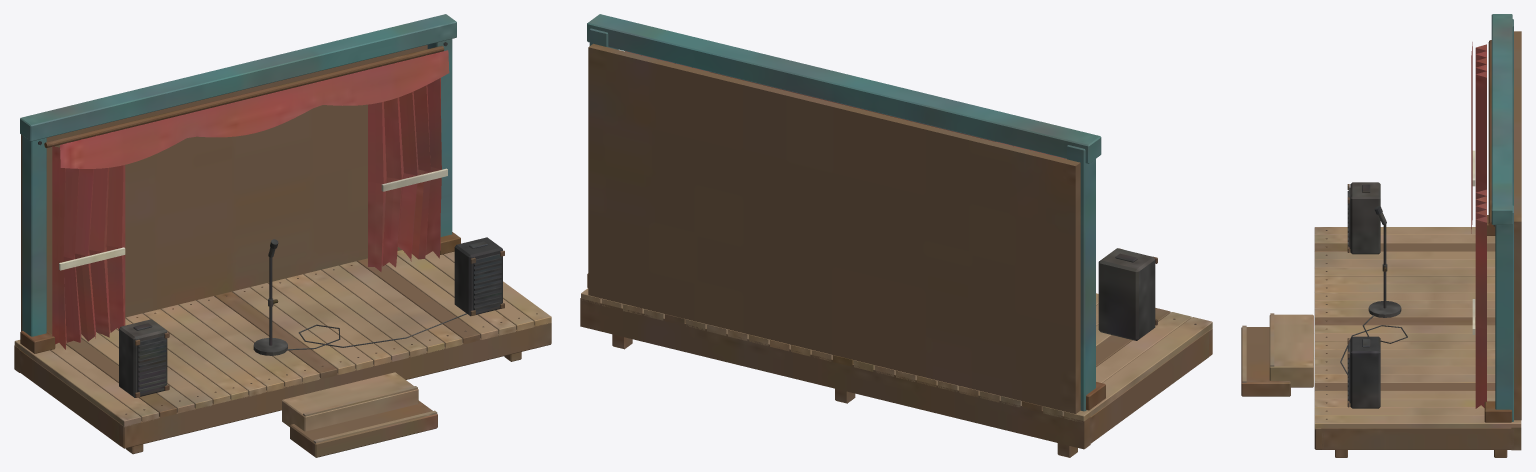
The model's file is Q16_community_hall_stage.glb.
The picture shows the model from 3 angles, left to right: view 1: azimuth 30°, elevation 25°; view 2: azimuth 150°, elevation 25°; view 3: azimuth 270°, elevation 25°; orthographic projection. The views are drawn at different scales.
Visible parts, largest first — view 1: Square timber support; view 2: Square timber support; view 3: Square timber support.
Boxes of the visible parts, x1,y1,x2,y2 form: Square timber support: [14, 14, 551, 457]; Square timber support: [580, 14, 1212, 457]; Square timber support: [1241, 14, 1521, 457].
Bounding box in the file's own units: 6 × 3.65 × 3.61.
Materials: 9 (9 with a texture image).
